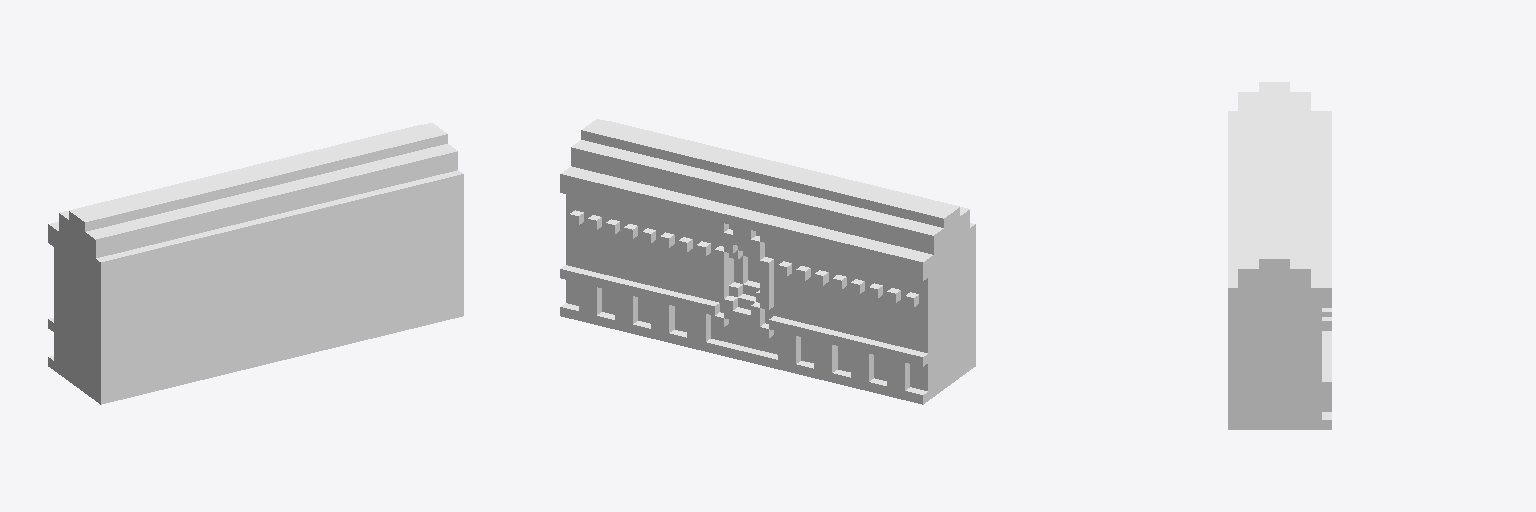
The model's file is vorota.obj.
3 renders of one model, left to right at view 1: azimuth 30°, elevation 25°; view 2: azimuth 150°, elevation 25°; view 3: azimuth 270°, elevation 25°, orthographic.
Parts seen in each view (by area): view 1: object 1; view 2: object 1; view 3: object 1.
Boxes of the visible parts, box(x1,y1,x2,y2) form: object 1: box(48, 123, 463, 404); object 1: box(560, 119, 975, 404); object 1: box(1228, 82, 1331, 429).
Size of the model in its own units: 4 by 1.8 by 1.